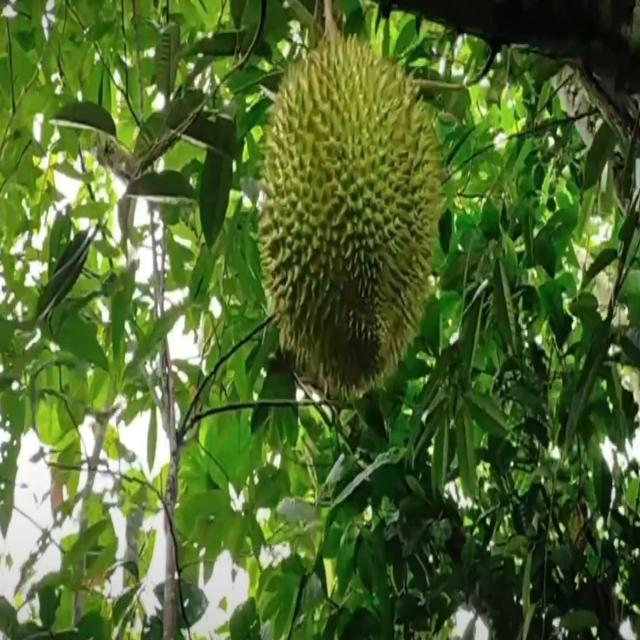immature: (255, 26, 444, 402)
